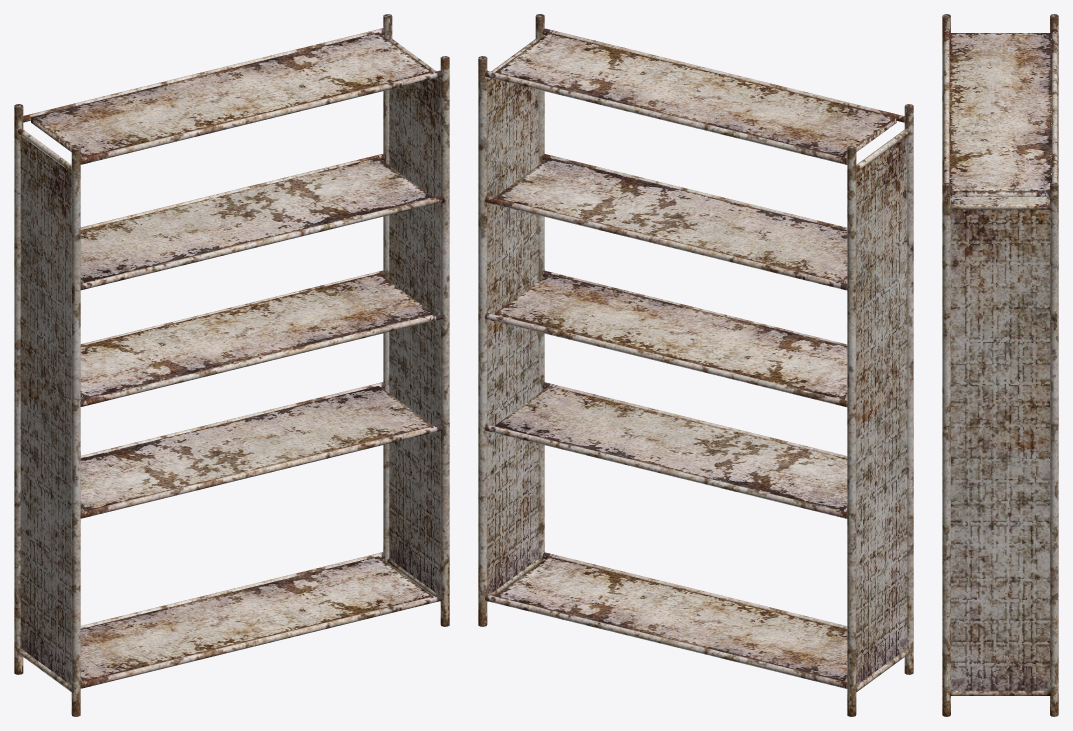
The model's file is 045_IronShelf.fbx.
The picture shows the model from 3 angles, left to right: view 1: azimuth 30°, elevation 25°; view 2: azimuth 150°, elevation 25°; view 3: azimuth 270°, elevation 25°; orthographic projection. The views are drawn at different scales.
Visible parts, largest first — view 1: LOD_1_Group_6_Sub_1__sm30_045_IronShelf01A_A_Mat, LOD_1_Group_5_Sub_1__sm30_045_IronShelf01A_A_Mat, LOD_1_Group_0_Sub_1__sm30_045_IronShelf01A_A_Mat, LOD_1_Group_2_Sub_1__sm30_045_IronShelf01A_A_Mat, LOD_1_Group_3_Sub_1__sm30_045_IronShelf01A_A_Mat, LOD_1_Group_1_Sub_1__sm30_045_IronShelf01A_A_Mat, LOD_1_Group_4_Sub_1__sm30_045_IronShelf01A_A_Mat; view 2: LOD_1_Group_6_Sub_1__sm30_045_IronShelf01A_A_Mat, LOD_1_Group_5_Sub_1__sm30_045_IronShelf01A_A_Mat, LOD_1_Group_0_Sub_1__sm30_045_IronShelf01A_A_Mat, LOD_1_Group_2_Sub_1__sm30_045_IronShelf01A_A_Mat, LOD_1_Group_1_Sub_1__sm30_045_IronShelf01A_A_Mat, LOD_1_Group_3_Sub_1__sm30_045_IronShelf01A_A_Mat, LOD_1_Group_4_Sub_1__sm30_045_IronShelf01A_A_Mat; view 3: LOD_1_Group_5_Sub_1__sm30_045_IronShelf01A_A_Mat, LOD_1_Group_0_Sub_1__sm30_045_IronShelf01A_A_Mat, LOD_1_Group_6_Sub_1__sm30_045_IronShelf01A_A_Mat, LOD_1_Group_1_Sub_1__sm30_045_IronShelf01A_A_Mat.
Part boxes in pixels (left/top/right/bottom): LOD_1_Group_6_Sub_1__sm30_045_IronShelf01A_A_Mat: left=14, top=104, right=80, bottom=716; LOD_1_Group_5_Sub_1__sm30_045_IronShelf01A_A_Mat: left=383, top=14, right=449, bottom=626; LOD_1_Group_0_Sub_1__sm30_045_IronShelf01A_A_Mat: left=23, top=28, right=442, bottom=164; LOD_1_Group_2_Sub_1__sm30_045_IronShelf01A_A_Mat: left=80, top=270, right=442, bottom=406; LOD_1_Group_3_Sub_1__sm30_045_IronShelf01A_A_Mat: left=80, top=382, right=442, bottom=518; LOD_1_Group_1_Sub_1__sm30_045_IronShelf01A_A_Mat: left=80, top=154, right=442, bottom=290; LOD_1_Group_4_Sub_1__sm30_045_IronShelf01A_A_Mat: left=80, top=552, right=442, bottom=688; LOD_1_Group_6_Sub_1__sm30_045_IronShelf01A_A_Mat: left=847, top=104, right=913, bottom=716; LOD_1_Group_5_Sub_1__sm30_045_IronShelf01A_A_Mat: left=478, top=14, right=544, bottom=626; LOD_1_Group_0_Sub_1__sm30_045_IronShelf01A_A_Mat: left=485, top=28, right=904, bottom=164; LOD_1_Group_2_Sub_1__sm30_045_IronShelf01A_A_Mat: left=485, top=270, right=847, bottom=407; LOD_1_Group_1_Sub_1__sm30_045_IronShelf01A_A_Mat: left=485, top=154, right=847, bottom=290; LOD_1_Group_3_Sub_1__sm30_045_IronShelf01A_A_Mat: left=485, top=382, right=847, bottom=518; LOD_1_Group_4_Sub_1__sm30_045_IronShelf01A_A_Mat: left=485, top=552, right=847, bottom=688; LOD_1_Group_5_Sub_1__sm30_045_IronShelf01A_A_Mat: left=942, top=182, right=1058, bottom=716; LOD_1_Group_0_Sub_1__sm30_045_IronShelf01A_A_Mat: left=943, top=28, right=1057, bottom=196; LOD_1_Group_6_Sub_1__sm30_045_IronShelf01A_A_Mat: left=942, top=14, right=1058, bottom=183; LOD_1_Group_1_Sub_1__sm30_045_IronShelf01A_A_Mat: left=951, top=197, right=1049, bottom=203.
Bounding box in the file's own units: 1.39 × 2 × 0.3975.
